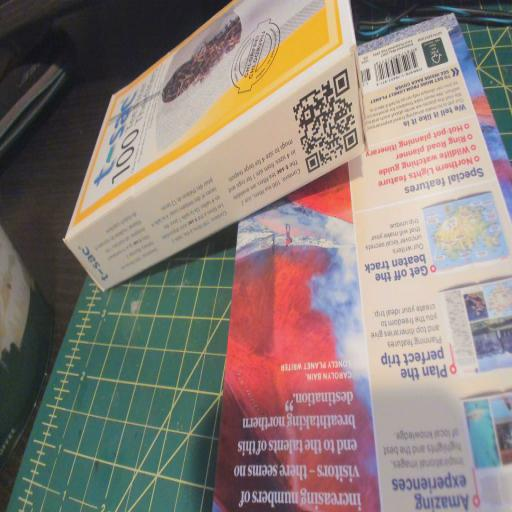QR_CODE: (288, 61, 364, 181)
